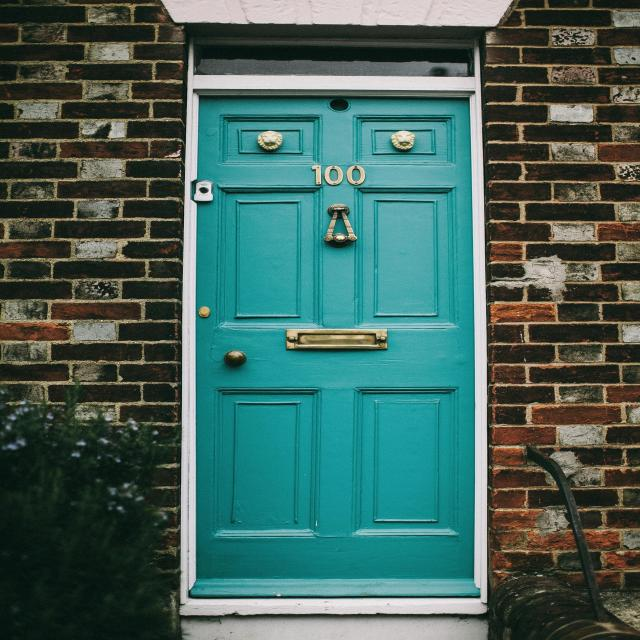door-knob: (225, 350, 248, 366)
